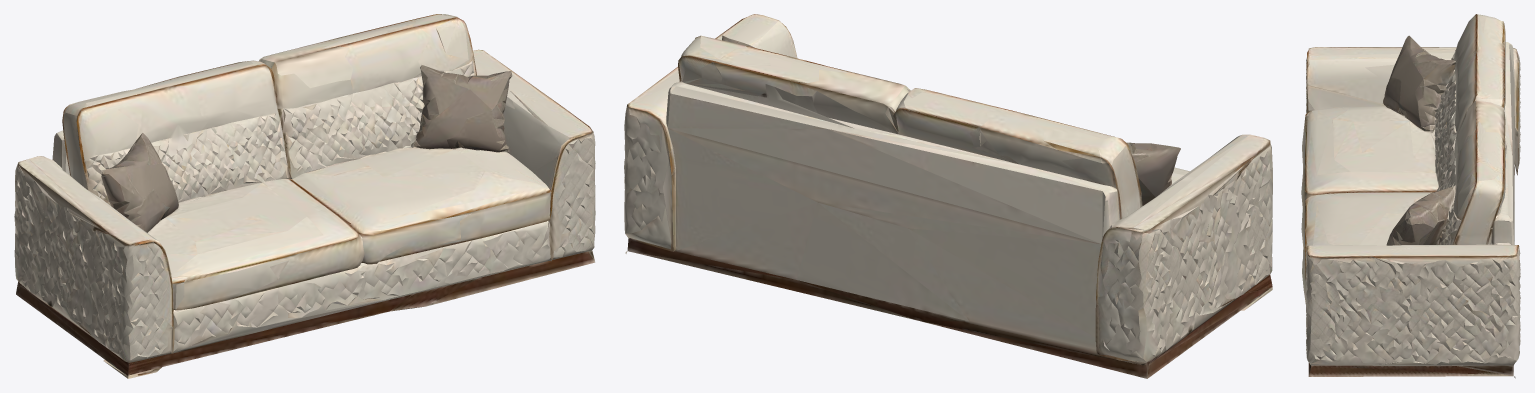
File: jetsofa.glb
3 renders of one model, left to right at view 1: azimuth 30°, elevation 25°; view 2: azimuth 150°, elevation 25°; view 3: azimuth 270°, elevation 25°, orthographic. The views are drawn at different scales.
Size of the model in its own units: 1.9 by 0.7416 by 0.8315.
1 material, 1 textured.
